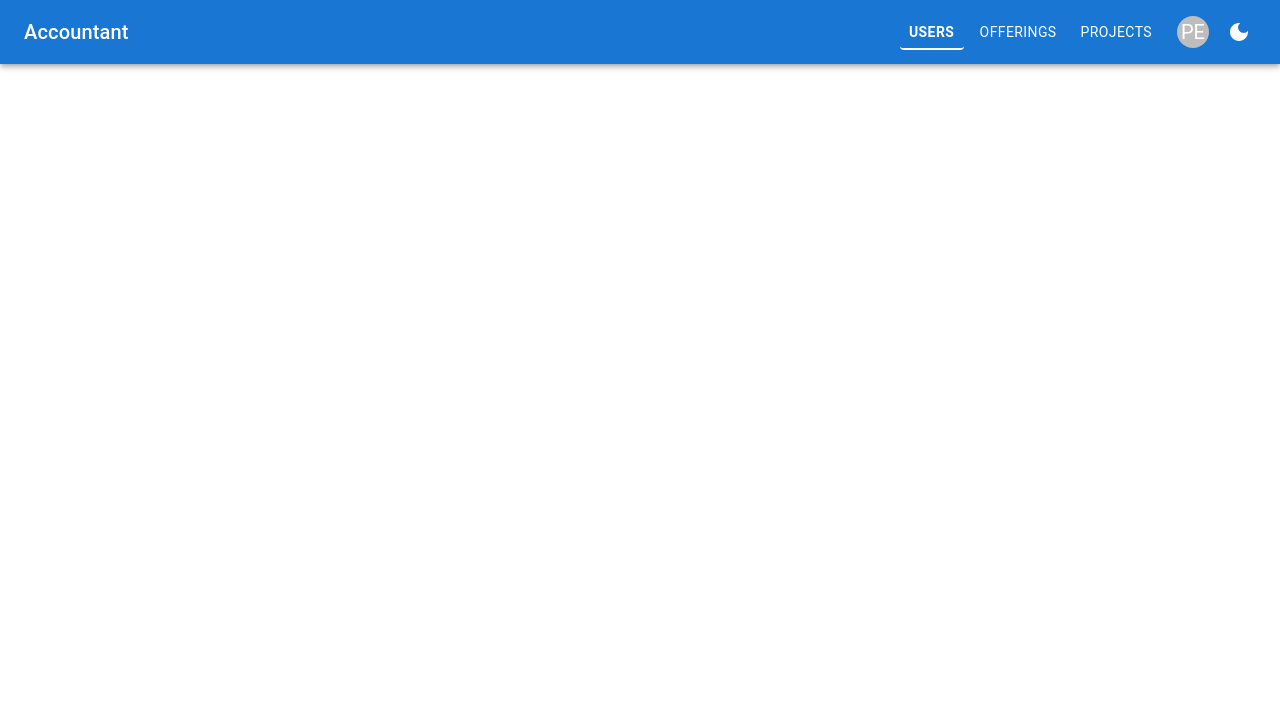
Test case: Header › opens the self-edit form prefilled with the current user
This screenshot has width=1280, height=720.
Click the button with aria-label "Account menu" at (1193, 32), box [1172, 11, 1214, 53]
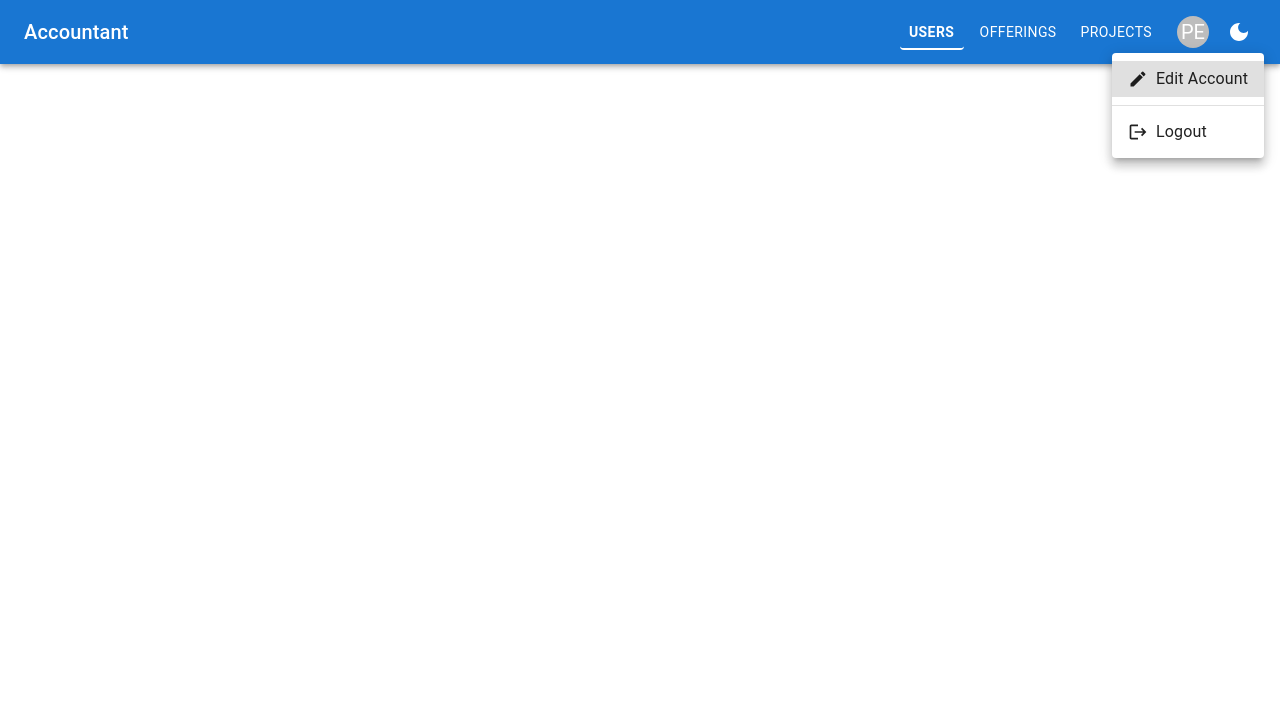
Click the menu item "Edit Account" at (1188, 79), box [1112, 61, 1264, 97]
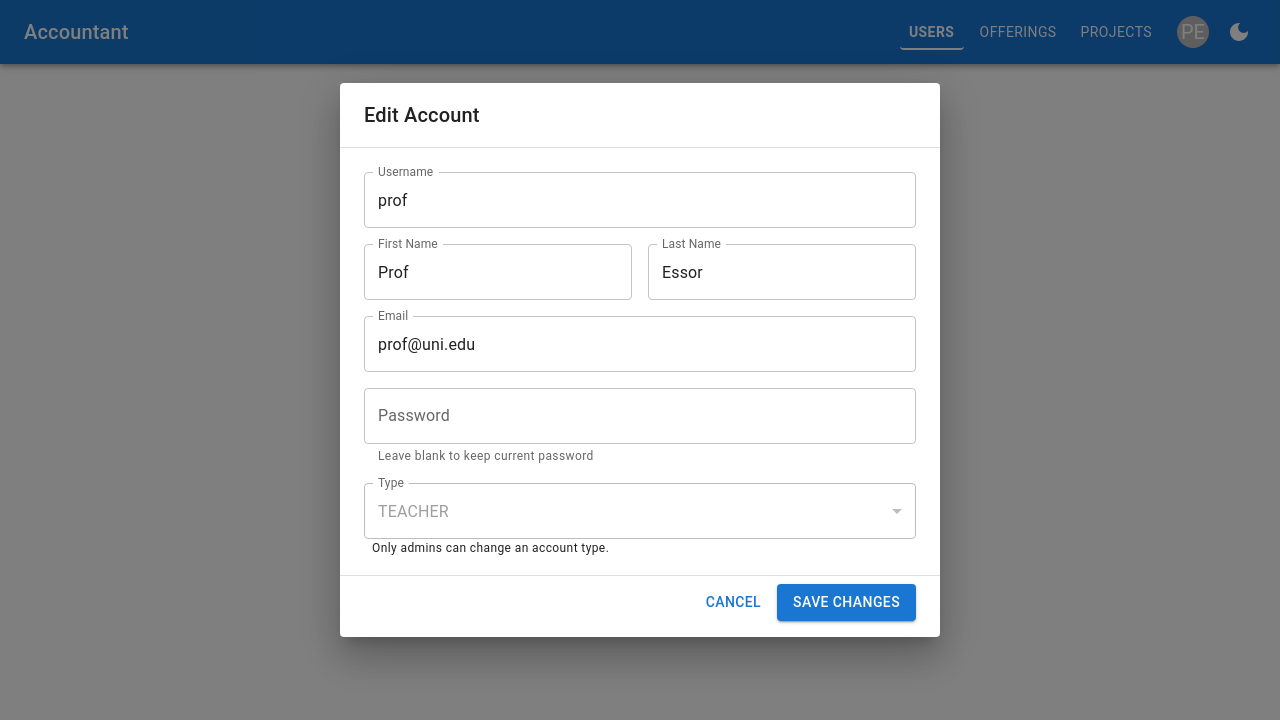
Now the dialog shows "Edit Account", box [364, 103, 480, 127]
Now the field labelled "Username" holds "prof", box [364, 172, 916, 228]
Now the field labelled "First Name" holds "Prof", box [364, 244, 632, 300]
